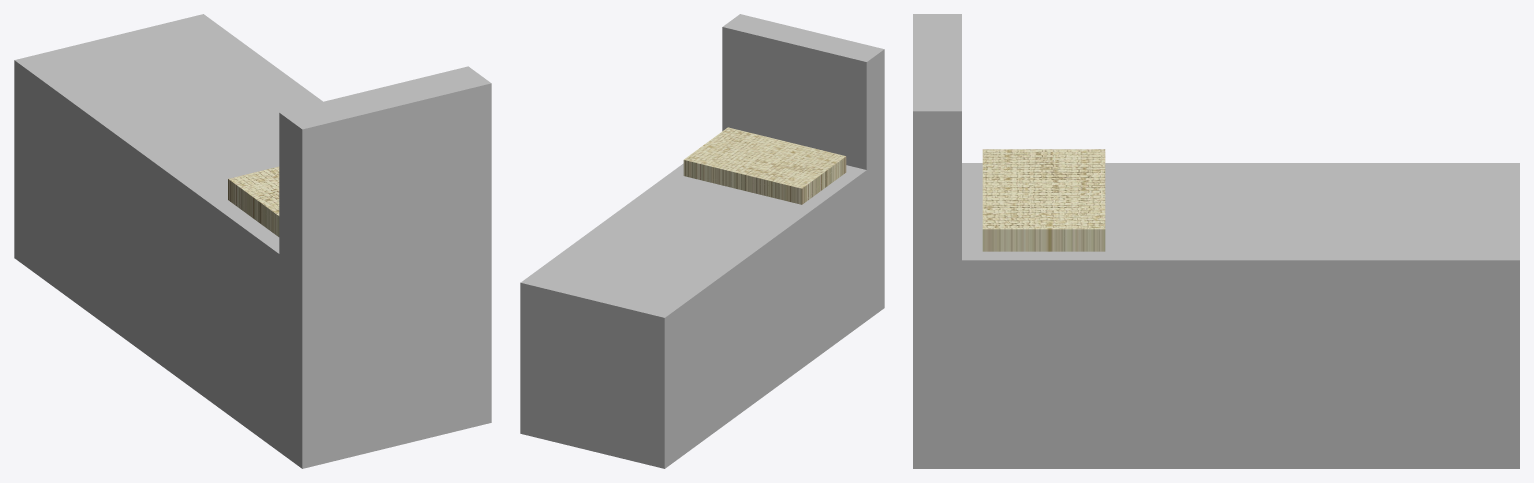
File: bed.fbx
3 renders of one model, left to right at view 1: azimuth 30°, elevation 25°; view 2: azimuth 150°, elevation 25°; view 3: azimuth 270°, elevation 25°, orthographic. The views are drawn at different scales.
Visible parts, largest first — view 1: Bed, Pillow; view 2: Bed, Pillow; view 3: Bed, Pillow.
Boxes of the visible parts, x1=… form: Bed: x1=14, y1=14, x2=491, y2=468; Pillow: x1=228, y1=166, x2=279, y2=236; Bed: x1=520, y1=14, x2=884, y2=468; Pillow: x1=683, y1=127, x2=846, y2=204; Bed: x1=913, y1=14, x2=1519, y2=468; Pillow: x1=982, y1=149, x2=1105, y2=251.
Bounding box in the file's own units: 200 × 343 × 527.
